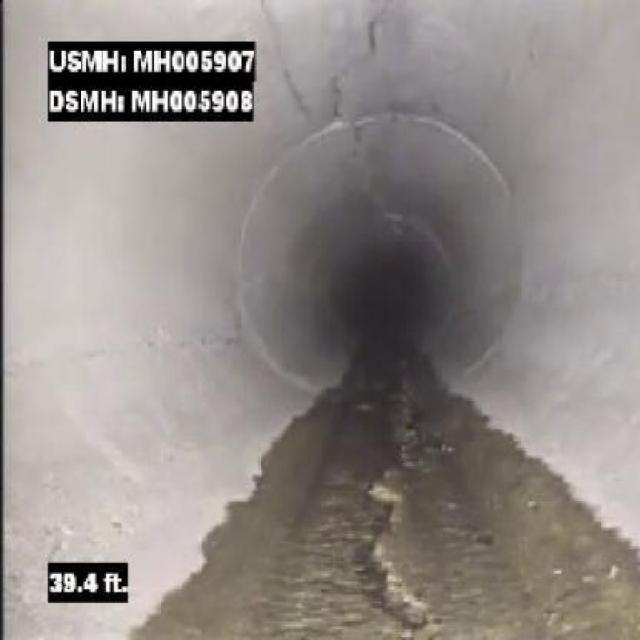Buckling: (354, 408, 454, 635)
Crack: (324, 3, 394, 108), (125, 325, 246, 363)
